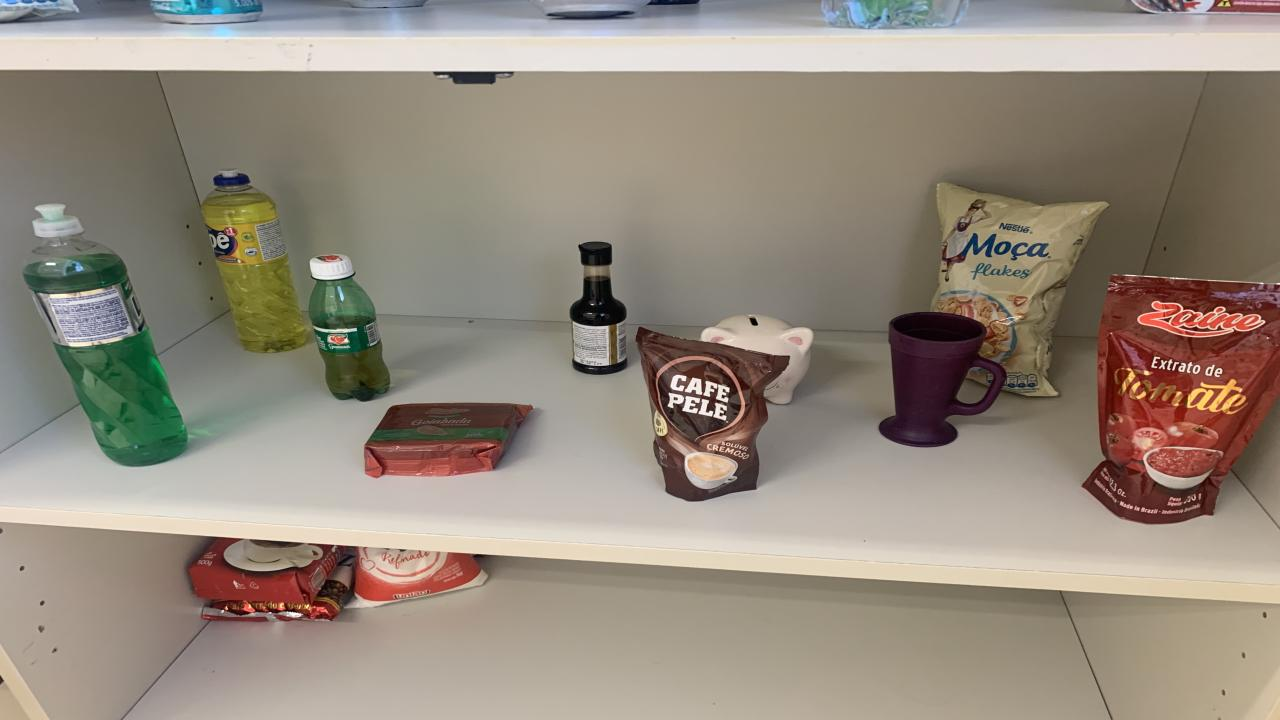Coffee-Pantry_Items: (635, 328, 788, 501)
Detergent-Cleanup_Items: (22, 204, 188, 467), (200, 171, 308, 352)
English_Sauce-Pantry_Items: (570, 242, 628, 375)
Flakes-Snacks: (932, 184, 1108, 396), (970, 369, 988, 382)
Guarana-Drinks: (310, 255, 390, 401)
Guava-Snacks: (365, 403, 532, 478)
Pig_Safe-Miscellaneous: (700, 315, 815, 405)
Tea-Drinks: (150, 0, 262, 24)
Tomato_Sauce-Pantry_Items: (1082, 276, 1280, 523)
Tonic-Drinks: (530, 0, 650, 19)
Tuna_Can-Pantry_Items: (1132, 0, 1280, 13)
Water_Bottle-Drinks: (822, 0, 968, 28)
